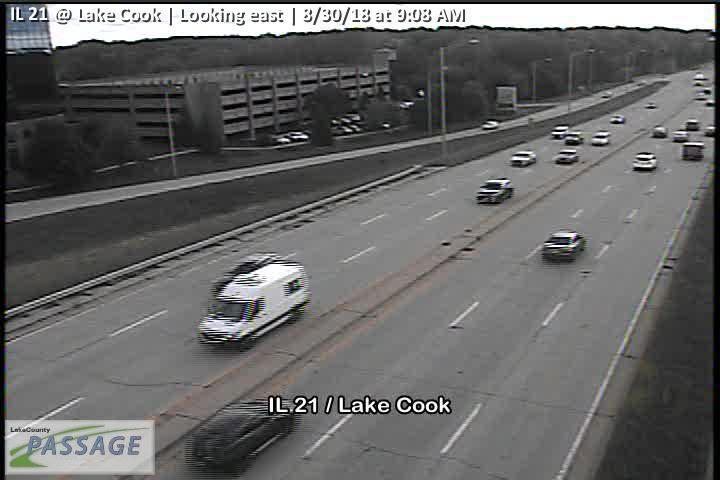SUV: (196, 260, 310, 350), (188, 397, 298, 475), (212, 252, 281, 294), (475, 177, 513, 204), (631, 151, 657, 170), (590, 129, 610, 145), (564, 131, 584, 144), (551, 125, 568, 139), (685, 118, 700, 130)
Sedan: (542, 230, 586, 261), (510, 150, 537, 166), (555, 149, 578, 164), (672, 129, 688, 142), (653, 126, 668, 138), (481, 120, 498, 129), (610, 114, 624, 123)
Truck: (682, 141, 705, 160)
